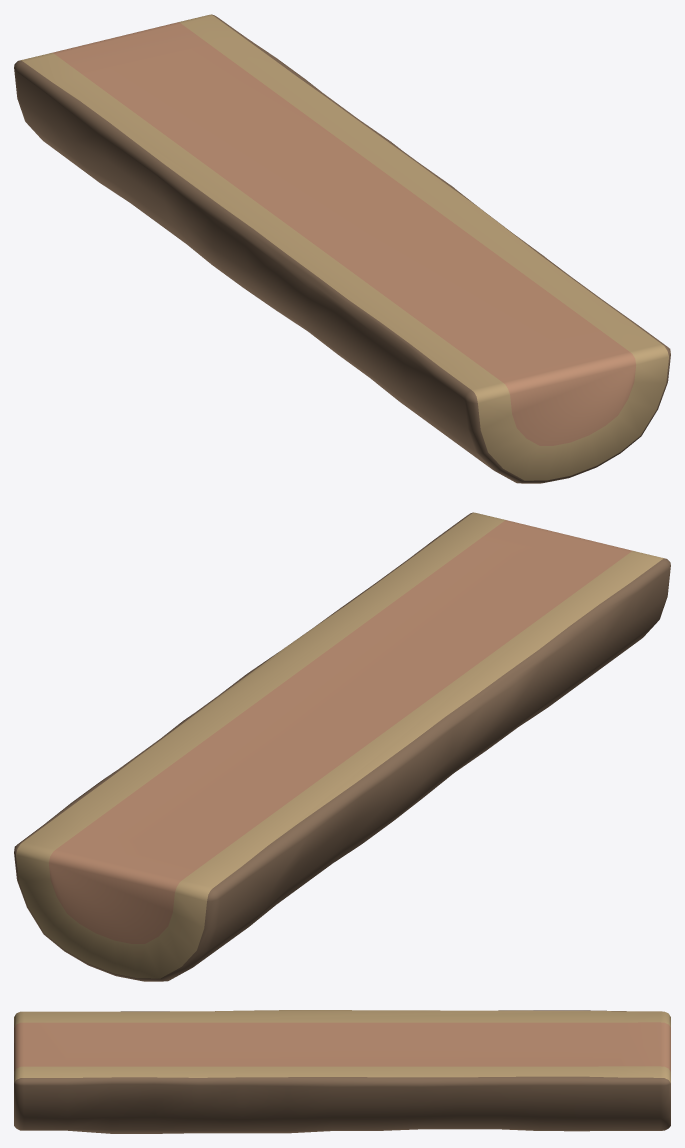
File: log-3.fbx
3 views of the same model, one above another, from view 1: azimuth 30°, elevation 25°; view 2: azimuth 150°, elevation 25°; view 3: azimuth 270°, elevation 25° (orthographic). The views are drawn at different scales.
Visible parts, largest first — view 1: Log; view 2: Log; view 3: Log.
Boxes of the visible parts, <box> form: Log: <box>14,14,670,483</box>; Log: <box>14,512,670,981</box>; Log: <box>14,1010,670,1133</box>.
Size of the model in its own units: 25.79 by 13.31 by 98.66.
